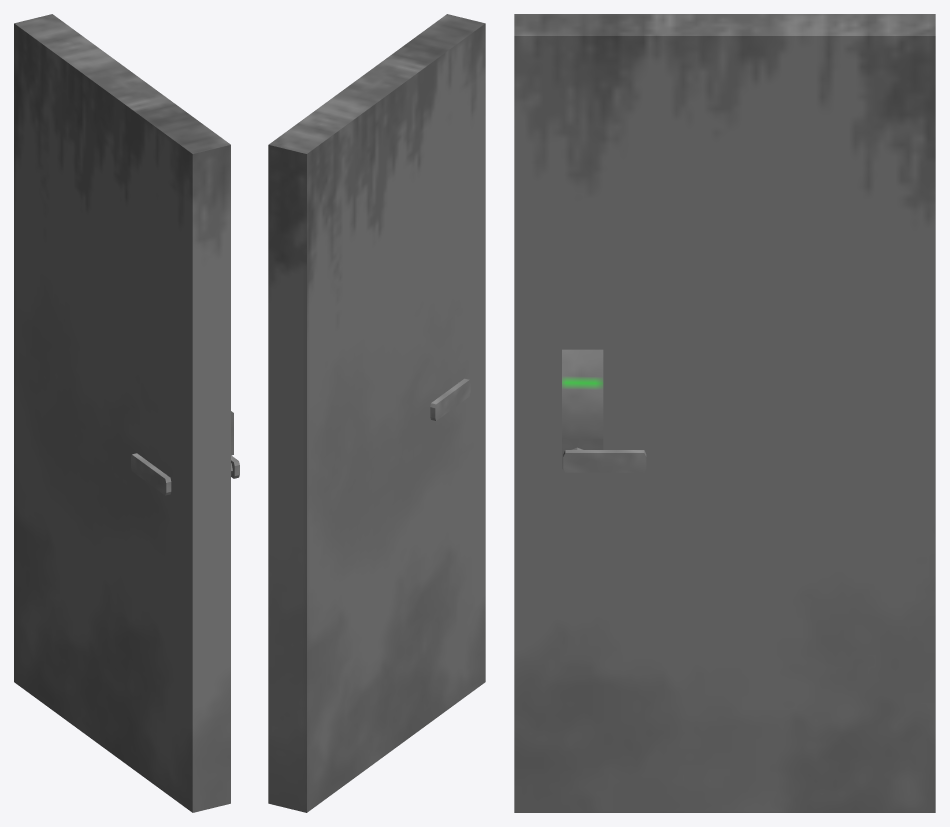
File: door_green.fbx
3 views of the same model, side by side, from view 1: azimuth 30°, elevation 25°; view 2: azimuth 150°, elevation 25°; view 3: azimuth 270°, elevation 25° (orthographic). The views are drawn at different scales.
Visible parts, largest first — view 1: Keycard_door4; view 2: Keycard_door4; view 3: Keycard_door4.
Part boxes in pixels (<box>): Keycard_door4: <box>14,14,239,812</box>; Keycard_door4: <box>268,14,485,812</box>; Keycard_door4: <box>514,14,935,812</box>.
Size of the model in its own units: 23.29 by 199 by 97.78.
